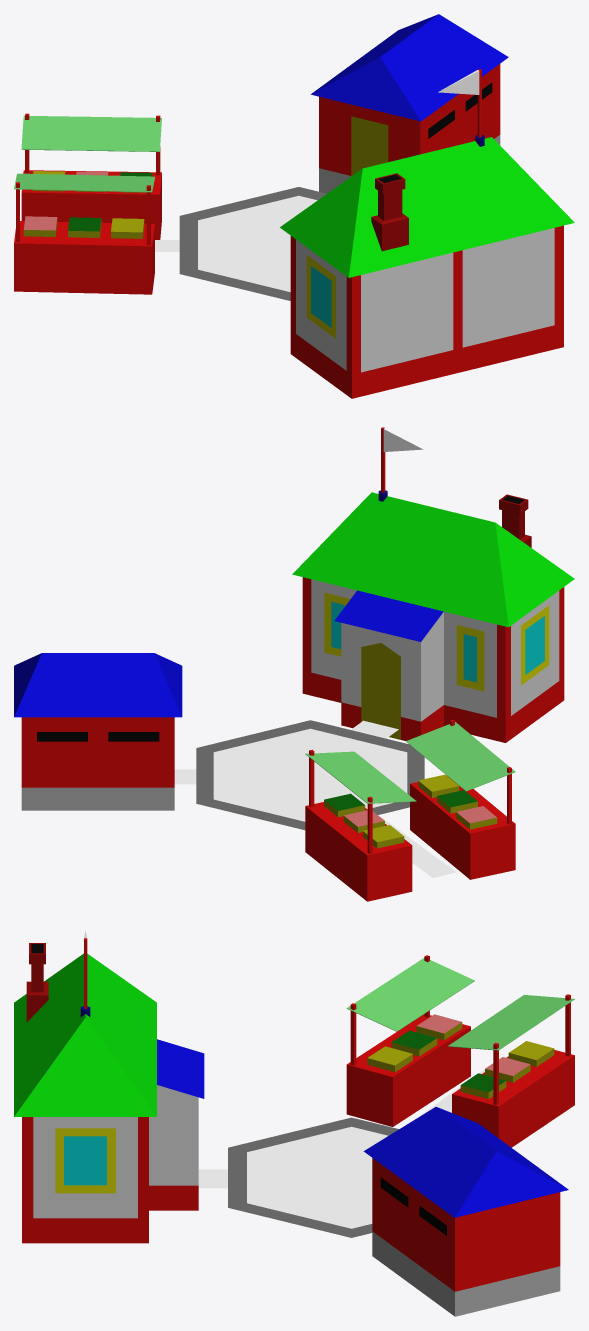
The model's file is FBX_Town.fbx.
The picture shows the model from 3 angles, top to bottom: view 1: azimuth 30°, elevation 25°; view 2: azimuth 150°, elevation 25°; view 3: azimuth 270°, elevation 25°; orthographic projection. The views are drawn at different scales.
Visible parts, largest first — view 1: Town; view 2: Town; view 3: Town.
Part boxes in pixels (x1,y1,x2,y2): Town: [14, 14, 574, 398]; Town: [14, 427, 574, 901]; Town: [14, 931, 574, 1316].
Size of the model in its own units: 552 by 277 by 509.
